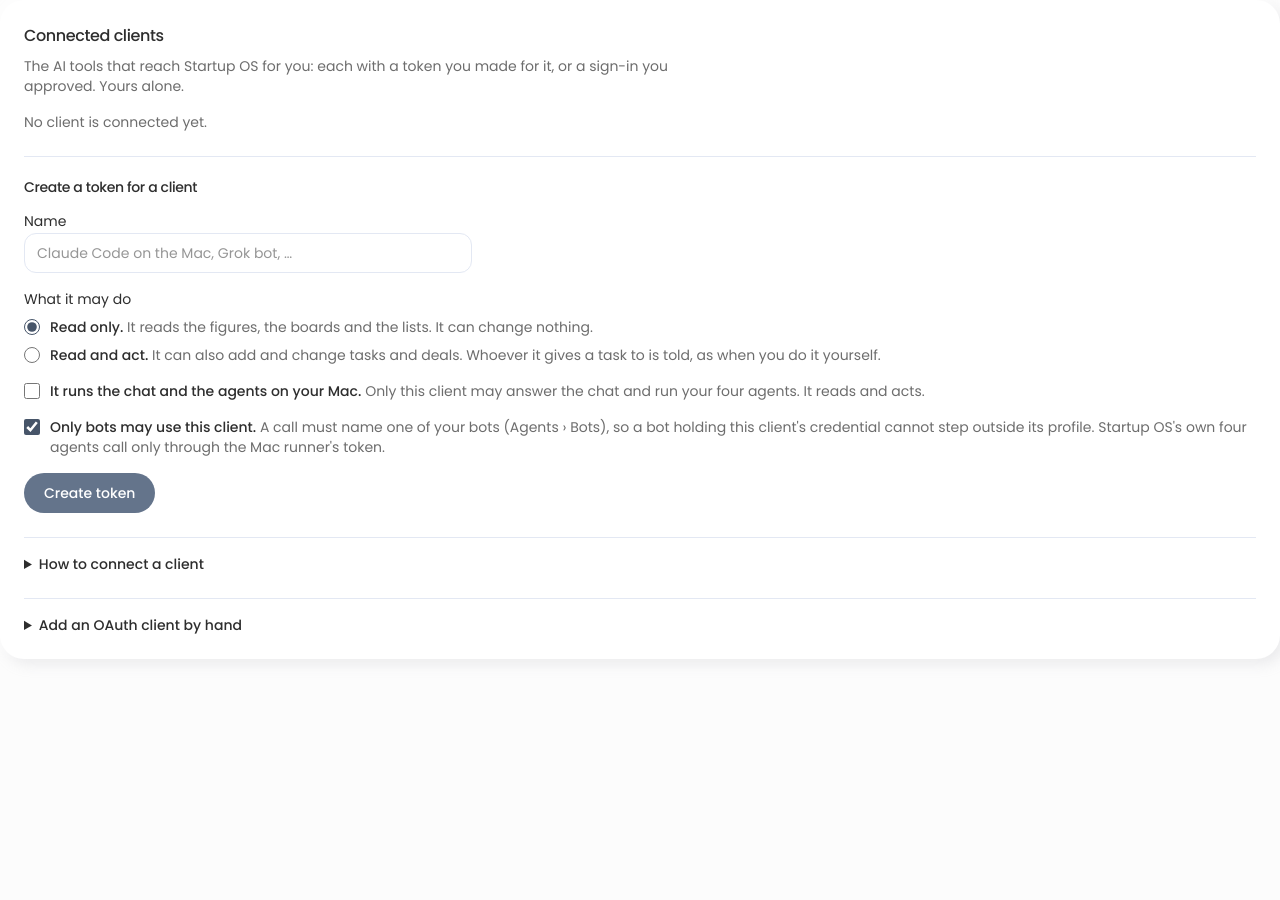
Test: Connected clients: making a token › a client needs a name: none is refused here, before the server is asked
What coordinates should you click on to do the following:
click the button "Create token"
I would click on:
 (90, 493)
Its box is top-left (24, 473), bottom-right (155, 513).
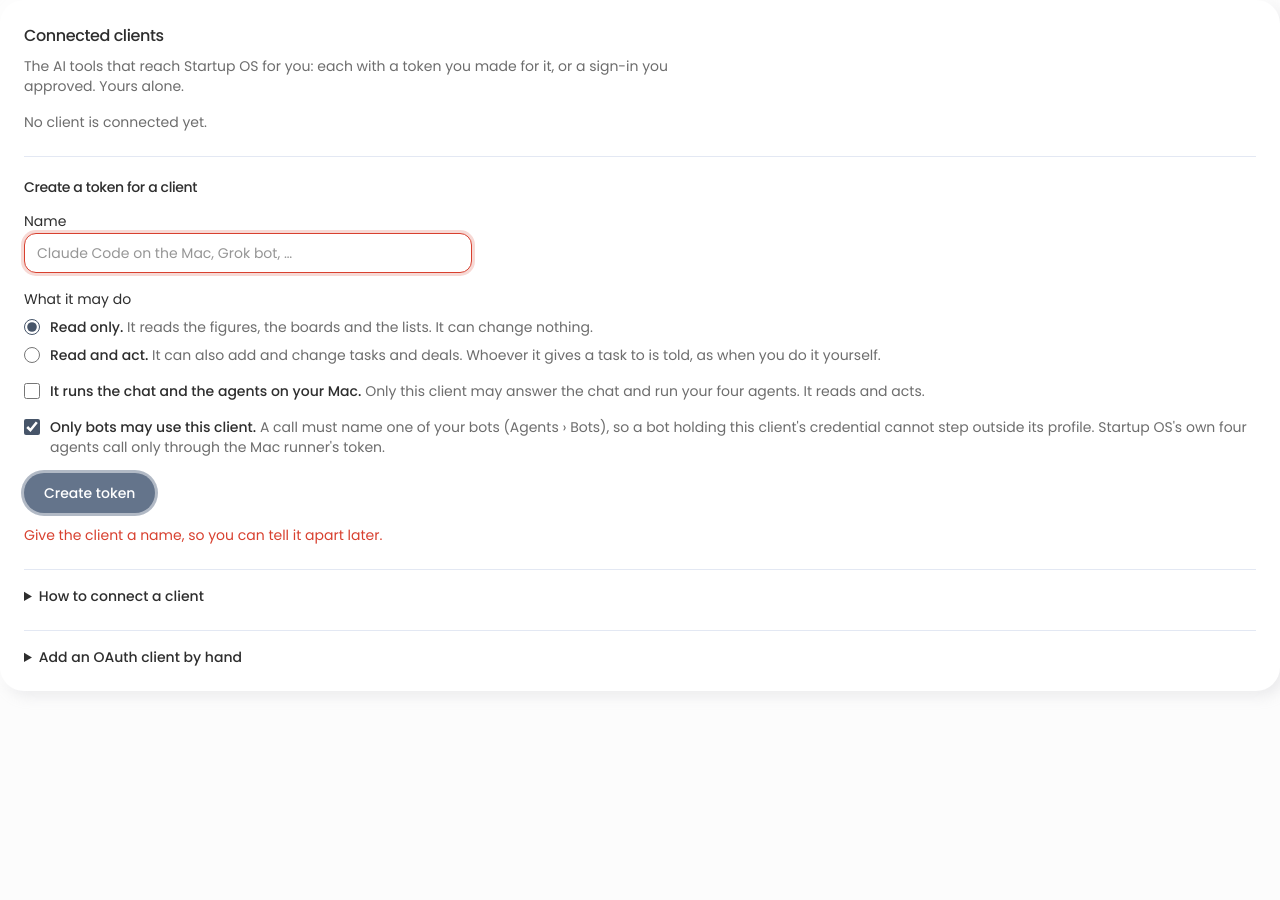
Result: the message reads "Give the client a name, so you can tell it apart later." at top-left (24, 525), bottom-right (382, 545)
